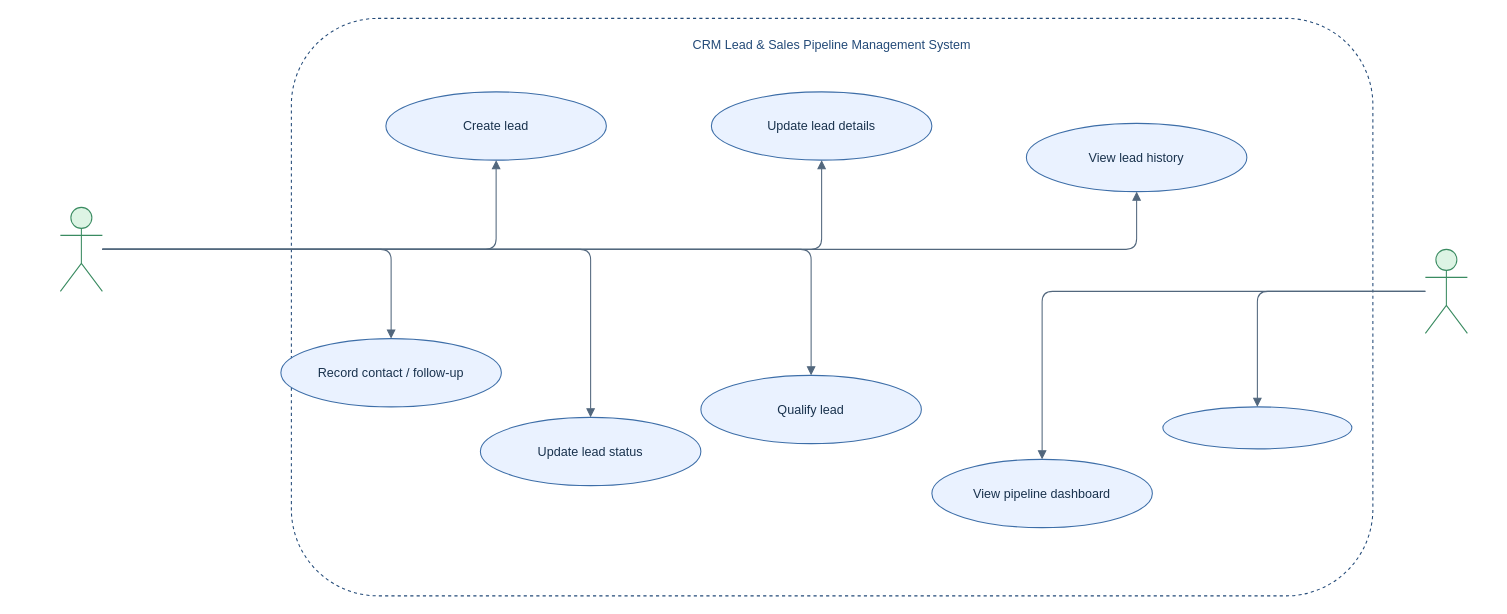
Some shapes in this 1507 by 614 pixel diagram are drawn without their labels. Each missing label, with the centre of its shape:
"Review source / owner outcomes" goes at point (1257, 427).
"Sales Executive / BDE" goes at point (80, 248).
"Sales Manager" goes at point (1445, 290).
